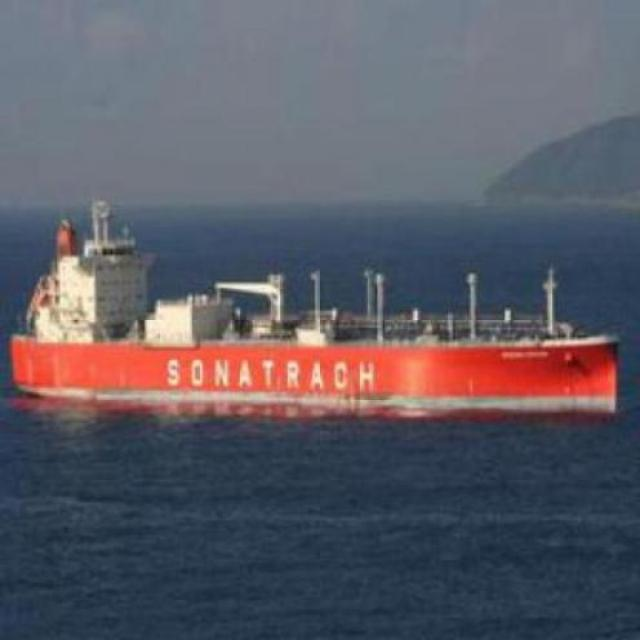boat: (5, 219, 630, 422)
